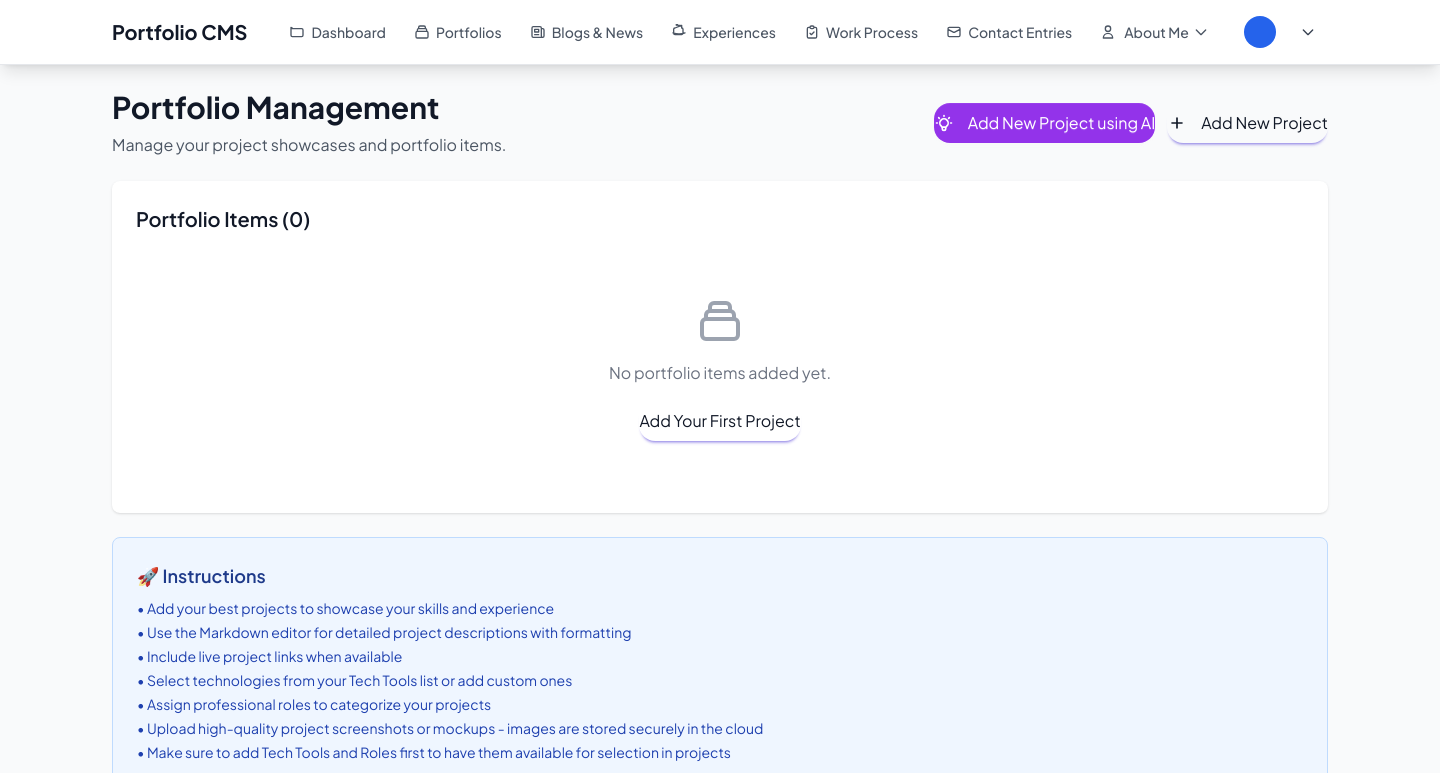
Scenario: PortfolioManagement - Custom Technologies Input › adds custom technologies as chips when clicking + Add button
The width and height of the screenshot is (1440, 773).
Click the button "Add Your First Project" at [720, 421], box [639,401,801,441]
(page scrolled)
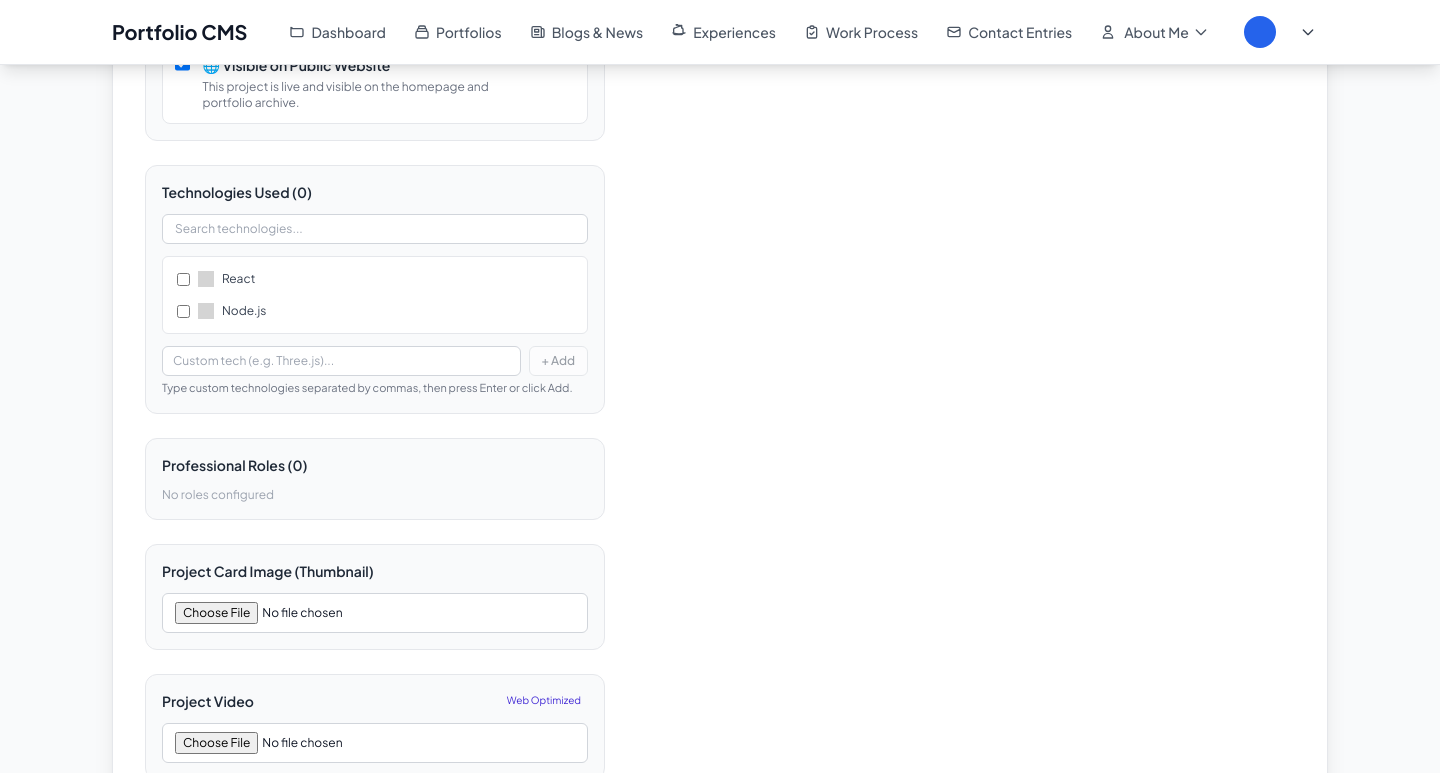
Expected: the field with test id "custom-tech-input" is shown
Type "Three.js, WebGL" into the field with test id "custom-tech-input" at [341, 361], box [162,346,520,376]
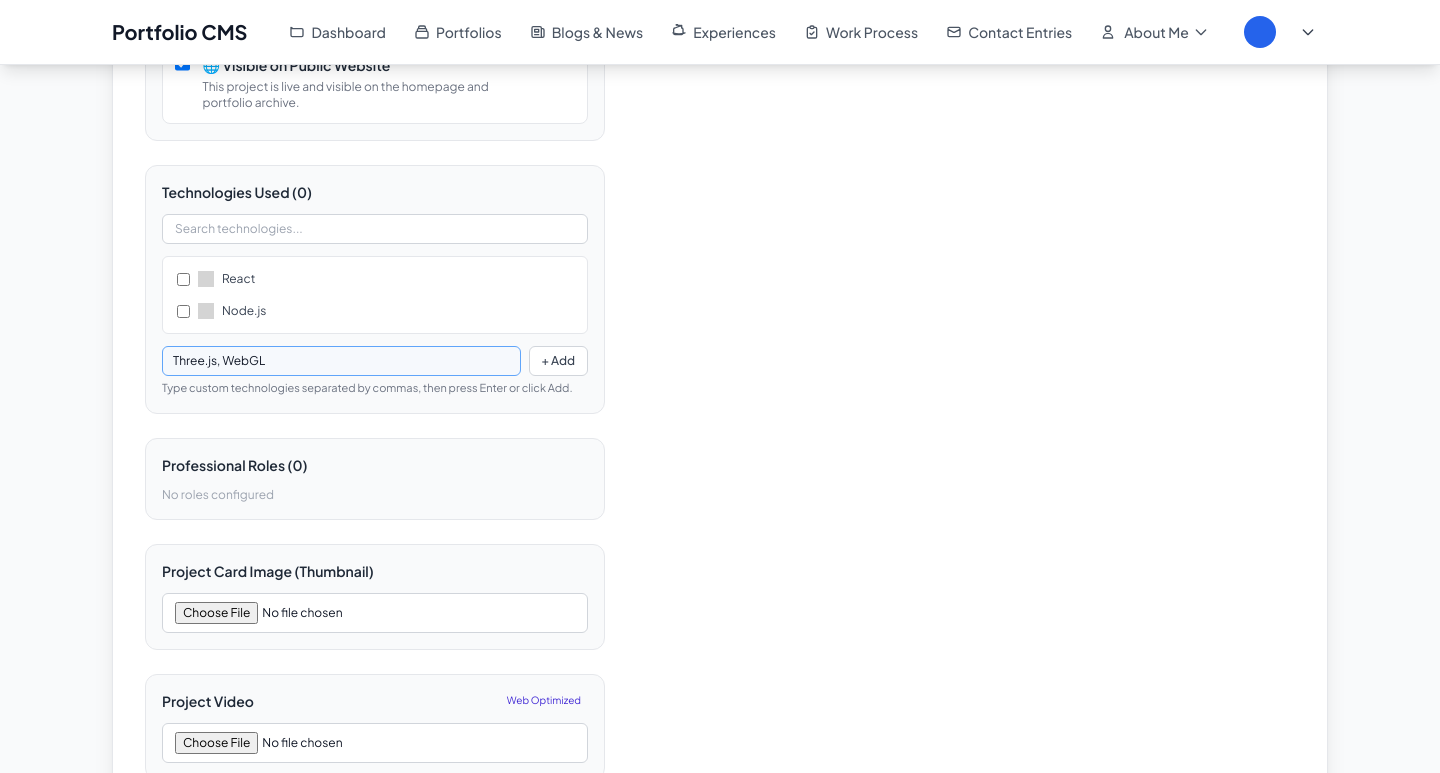
Click the button with test id "add-custom-tech-btn" at [558, 361], box [528,346,588,376]
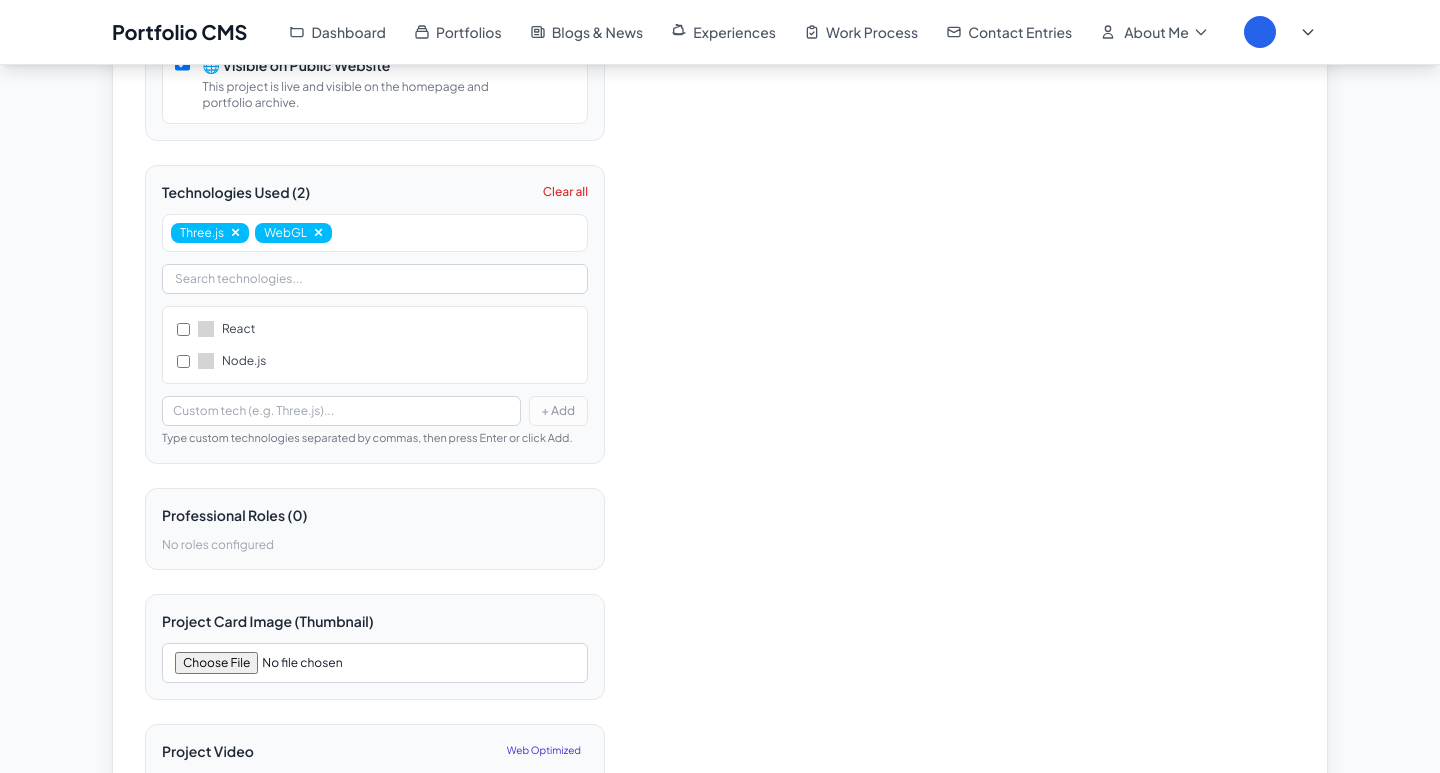
Expected: the text "Three.js" is shown, [180,225,224,240]
Expected: the text "WebGL" is shown, [264,225,307,240]
Expected: the field with test id "custom-tech-input" is empty, [162,396,520,426]
